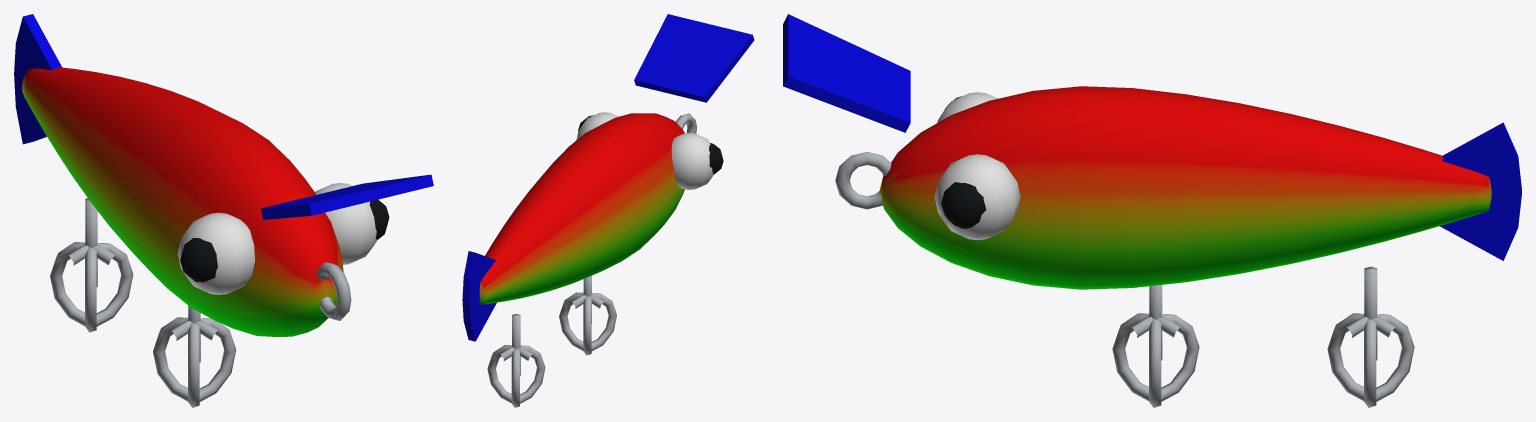
File: lure.glb
3 renders of one model, left to right at view 1: azimuth 30°, elevation 25°; view 2: azimuth 150°, elevation 25°; view 3: azimuth 270°, elevation 25°, orthographic. The views are drawn at different scales.
Visible parts, largest first — view 1: Body, Hook, Eye; view 2: Body, Hook, Eye; view 3: Body, Hook, Eye.
Part boxes in pixels (<box>): Body: <box>14,14,433,336</box>; Hook: <box>50,198,351,407</box>; Eye: <box>177,183,389,294</box>; Body: <box>462,14,754,341</box>; Hook: <box>487,113,696,407</box>; Eye: <box>576,112,723,189</box>; Body: <box>783,14,1521,289</box>; Hook: <box>835,151,1414,407</box>; Eye: <box>934,92,1020,240</box>.
Size of the model in its own units: 0.396 by 0.6434 by 1.2.
